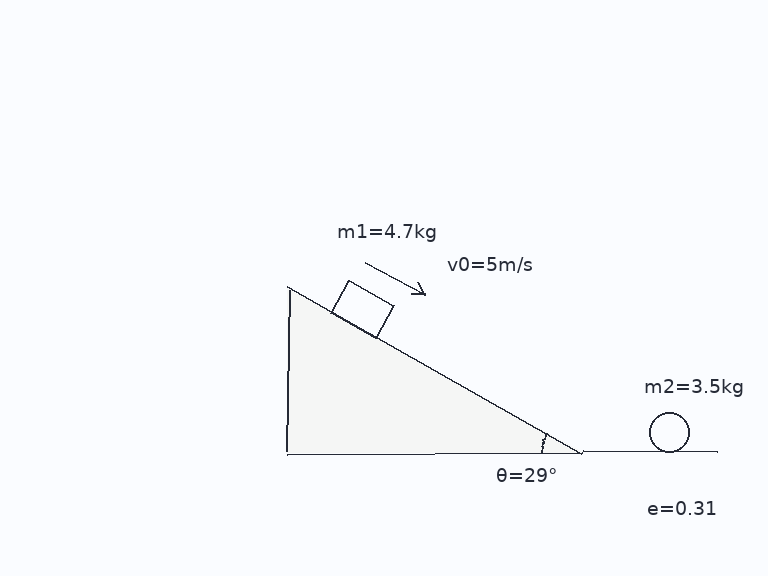ball: (647, 410, 691, 454)
block: (328, 278, 395, 339)
ramp: (285, 287, 584, 454)
